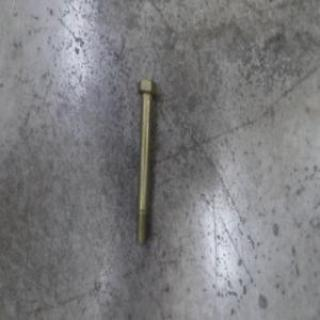Bolttrack_idkeyframe: (134, 74, 158, 251)
